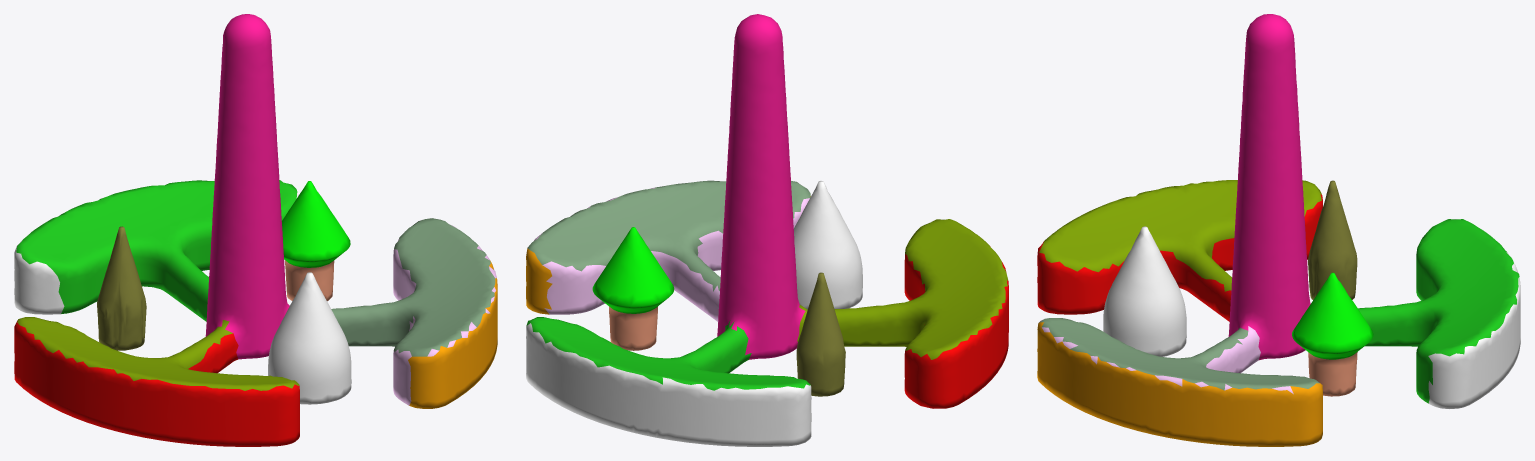
File: model_24_segmented_new.obj
3 renders of one model, left to right at view 1: azimuth 30°, elevation 25°; view 2: azimuth 150°, elevation 25°; view 3: azimuth 270°, elevation 25°, orthographic.
Size of the model in its own units: 59.99 by 42.97 by 57.86.
